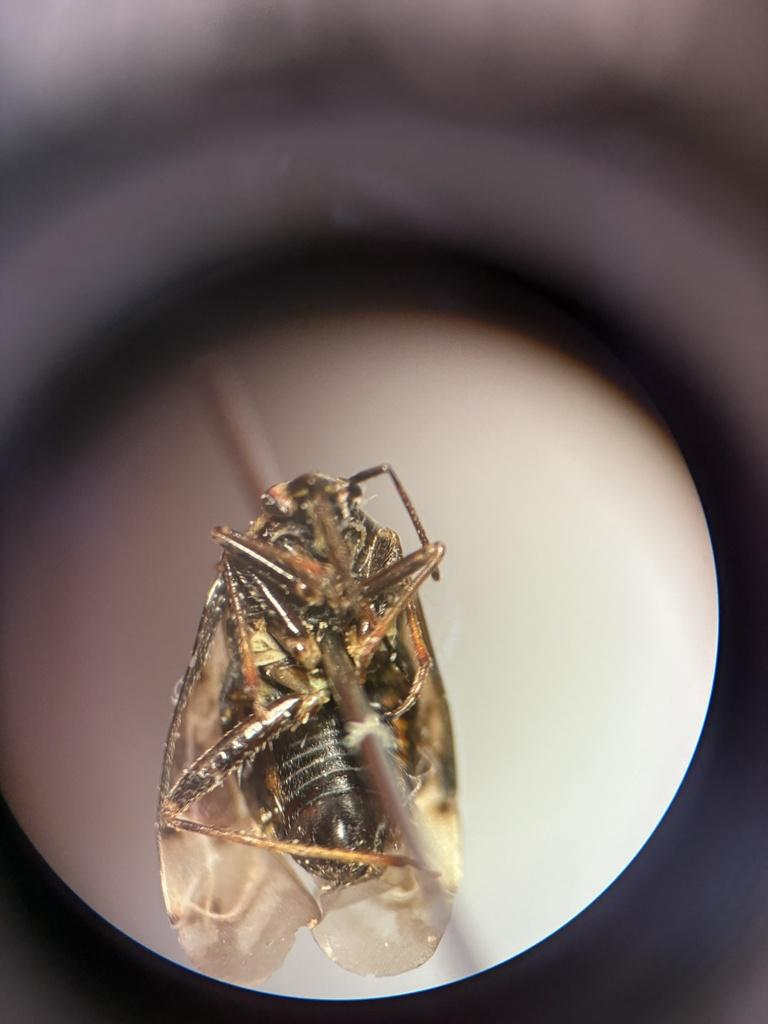plant_bugs: (93, 427, 558, 1003)
